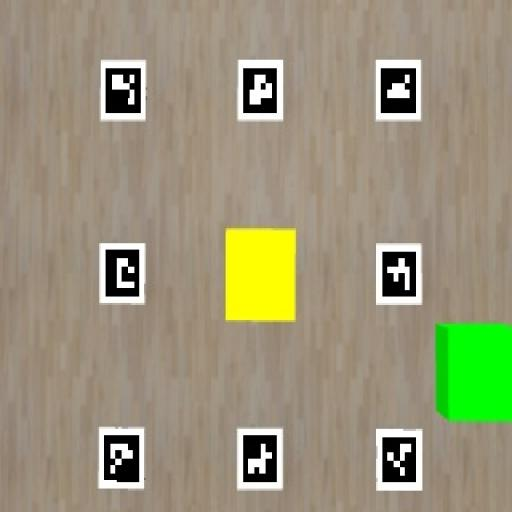car: (436, 323, 511, 422)
fire: (224, 229, 295, 322)
